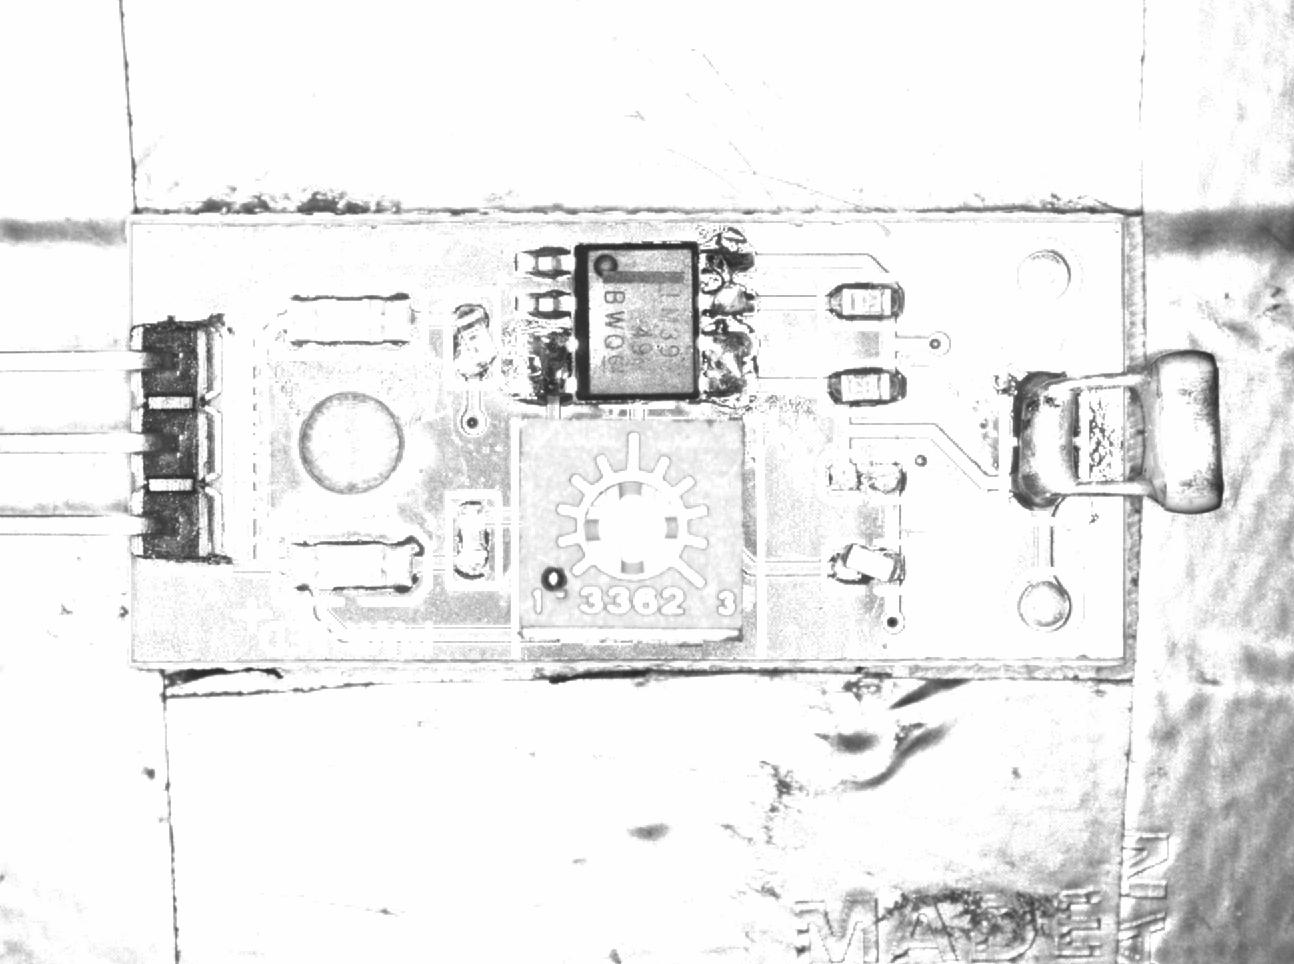bridge: (1003, 355, 1090, 513), (515, 321, 578, 410), (699, 324, 761, 408), (701, 248, 759, 319)
lifted: (815, 537, 909, 593)
miss: (817, 448, 918, 503), (443, 290, 497, 385), (450, 493, 499, 583)
ok: (817, 356, 914, 411), (822, 277, 907, 326)
